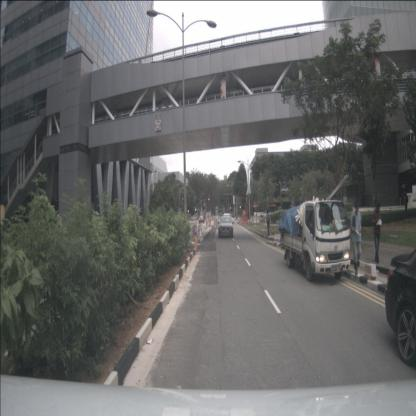barrier: (196, 224, 204, 243), (192, 224, 198, 241), (252, 215, 259, 224), (242, 216, 249, 224), (240, 216, 242, 224)
cone: (194, 233, 198, 251)
